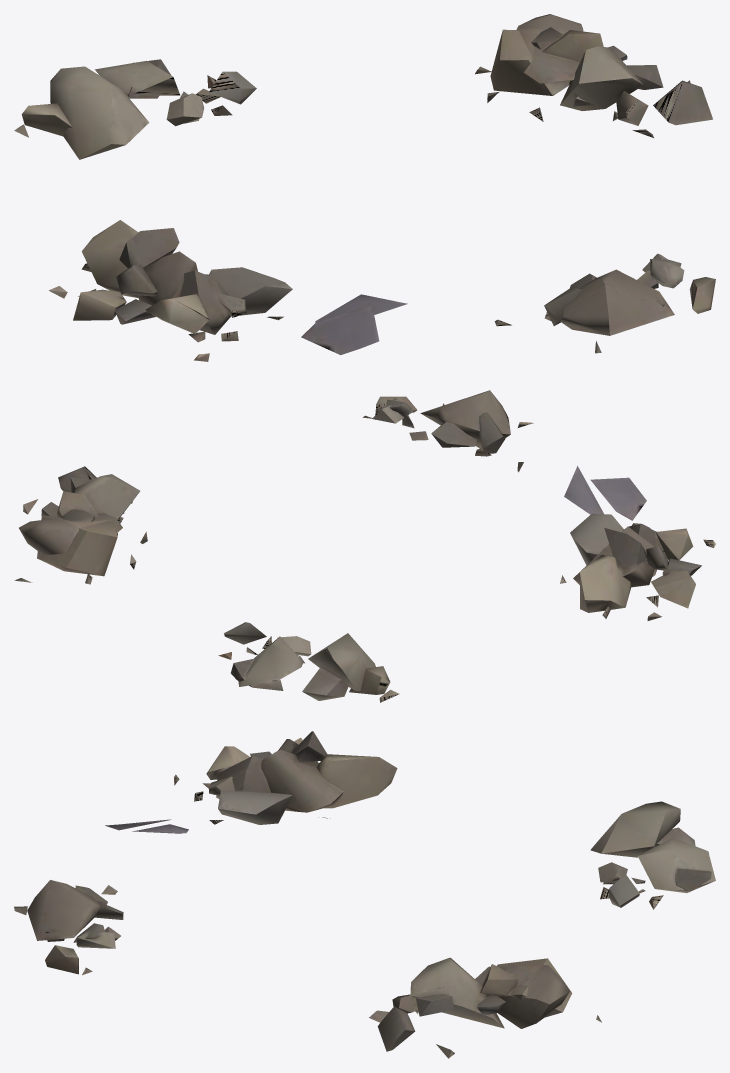
File: rough-cave-3.low.glb
3 renders of one model, top to bottom at view 1: azimuth 30°, elevation 25°; view 2: azimuth 150°, elevation 25°; view 3: azimuth 270°, elevation 25°, orthographic. The views are drawn at different scales.
Visible parts, largest first — view 1: rough-cave-3; view 2: rough-cave-3; view 3: rough-cave-3.
Boxes of the visible parts, x1,y1,x2,y2 form: rough-cave-3: (14,14,715,361); rough-cave-3: (14,390,715,702); rough-cave-3: (14,731,715,1058).
Size of the model in its own units: 1.81 by 0.2081 by 1.81.
Materials: 1 (1 with a texture image).
